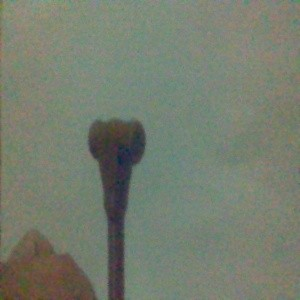palu: (87, 117, 146, 300)
